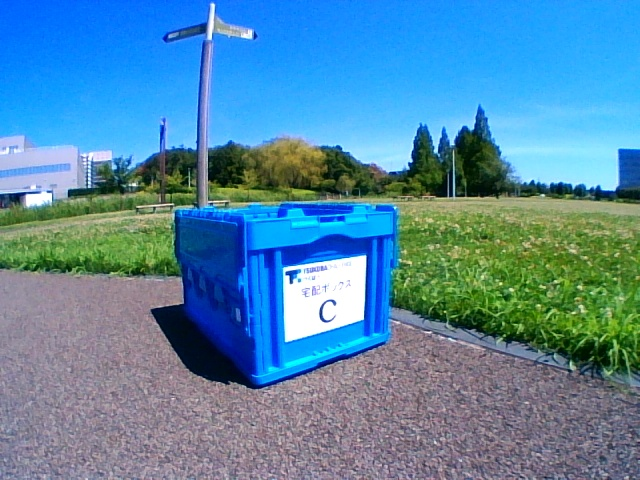blue_box: (174, 202, 397, 386)
tag_c: (296, 273, 354, 324)
